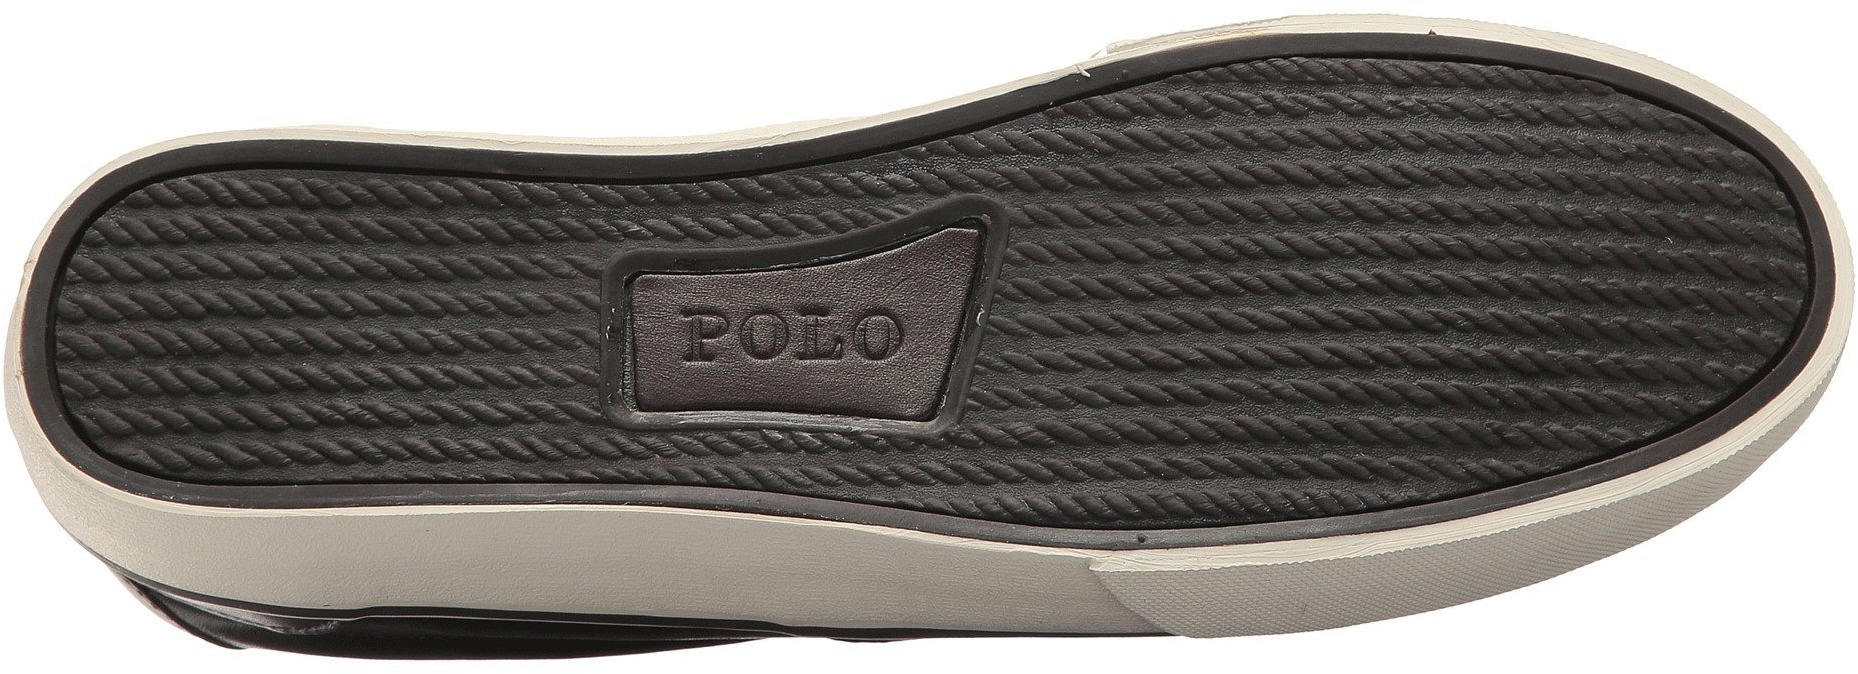quad: (590, 192, 1016, 447)
text: (674, 284, 916, 397)
